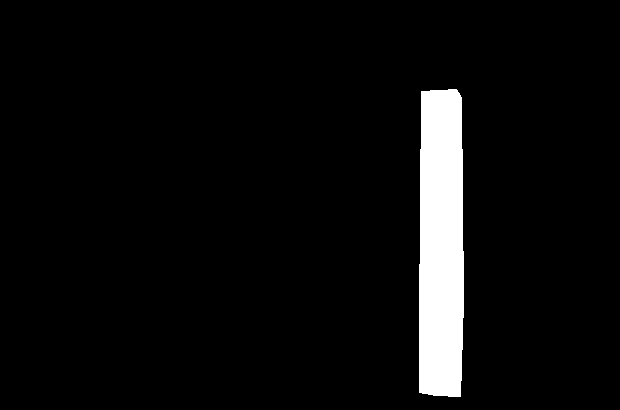type3s: (414, 85, 468, 398)
